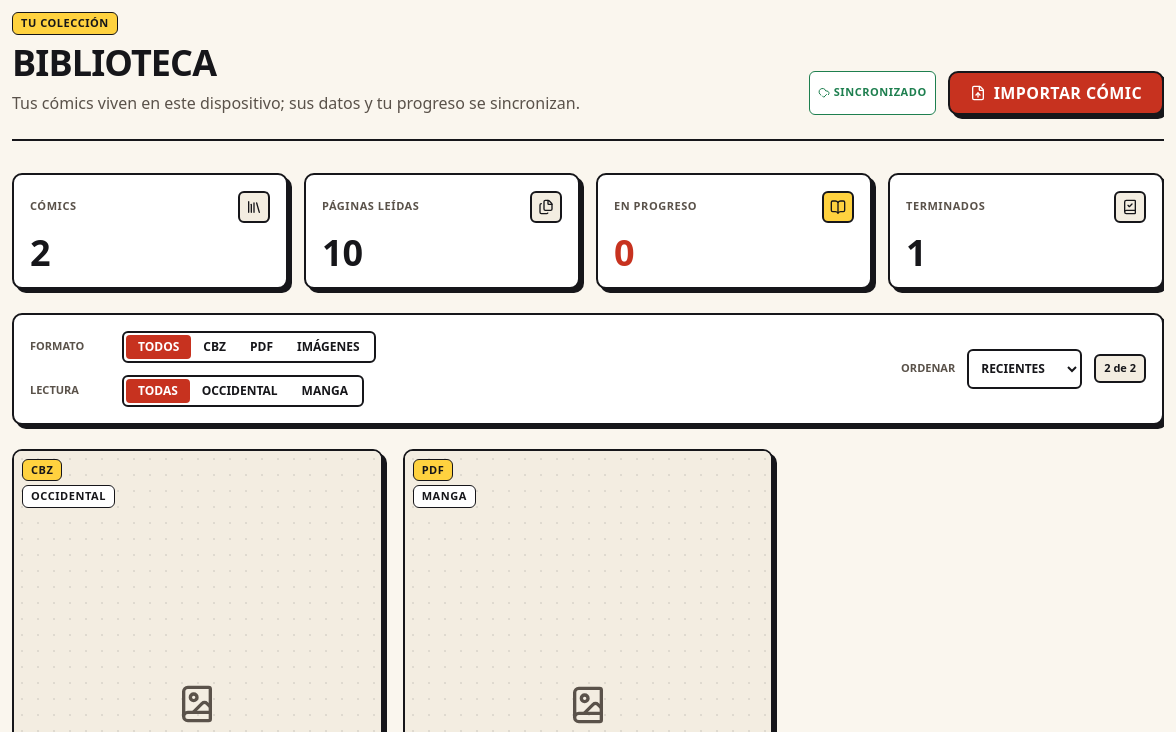
LibraryView › filtra por dirección de lectura
Click the button "Manga".
click(325, 390)  # box left=290, top=378, right=360, bottom=402
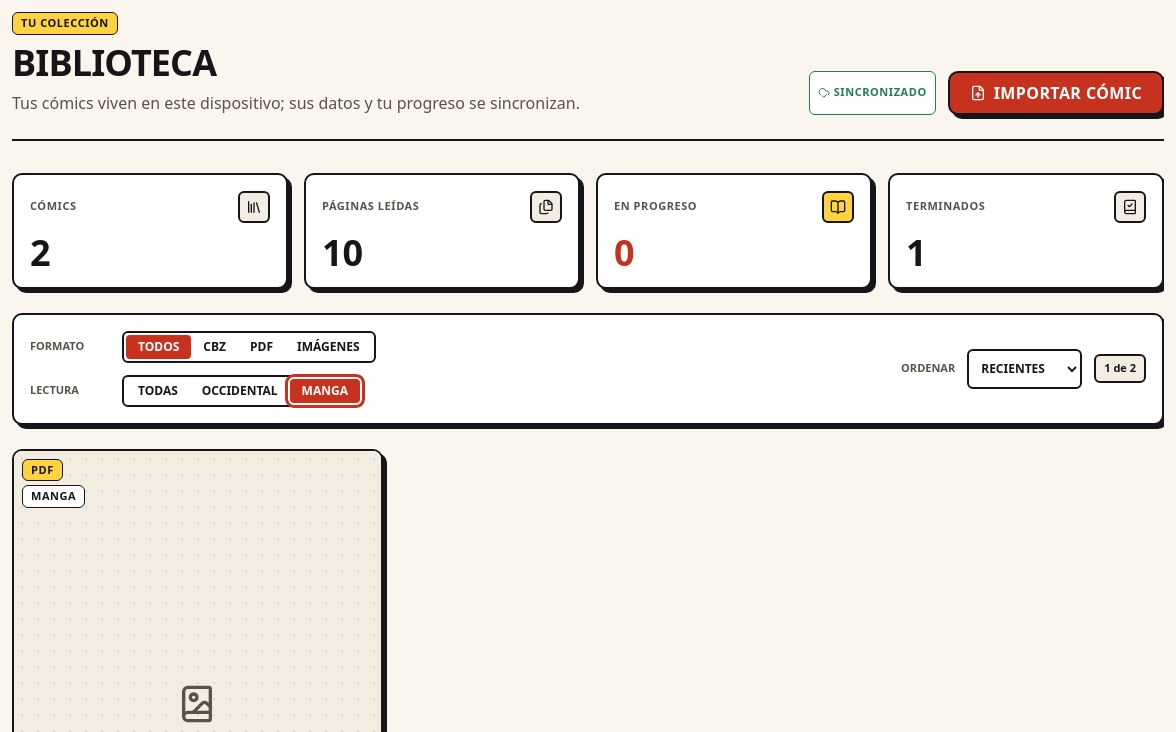
expect the text "1 de 2" is shown: met, box left=1094, top=354, right=1146, bottom=383
